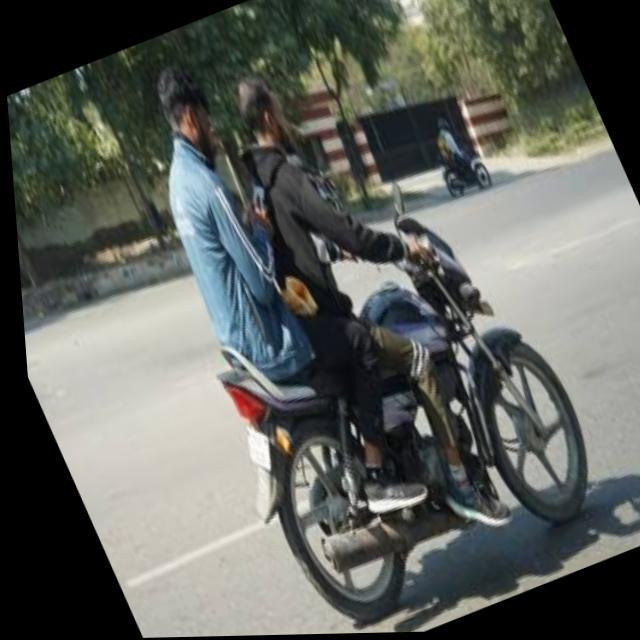Nonhelmet: (150, 60, 222, 172), (233, 69, 299, 163)
